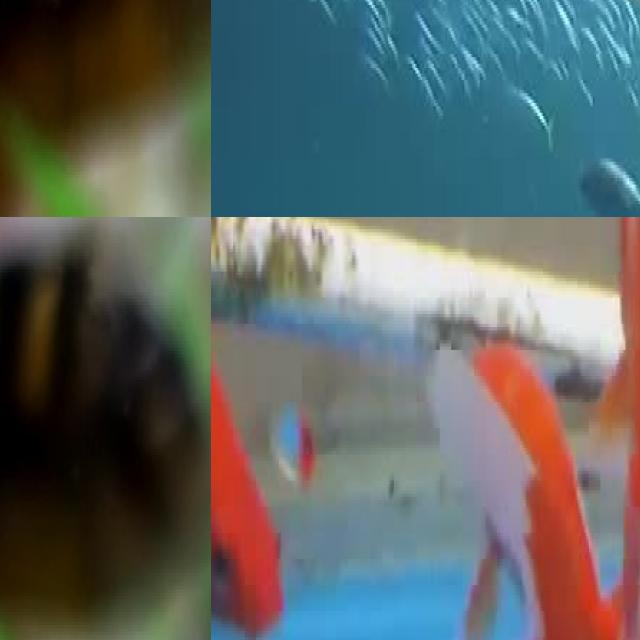fish: (435, 340, 640, 640), (0, 0, 211, 217)
